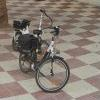bicycles: (18, 25, 72, 93)
